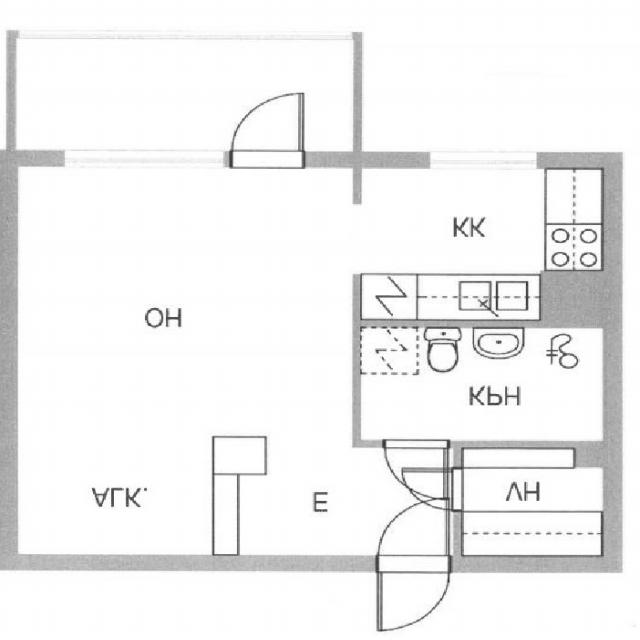door: (378, 554, 448, 630), (232, 94, 302, 168), (378, 496, 448, 570), (386, 439, 448, 497), (403, 468, 462, 510)
